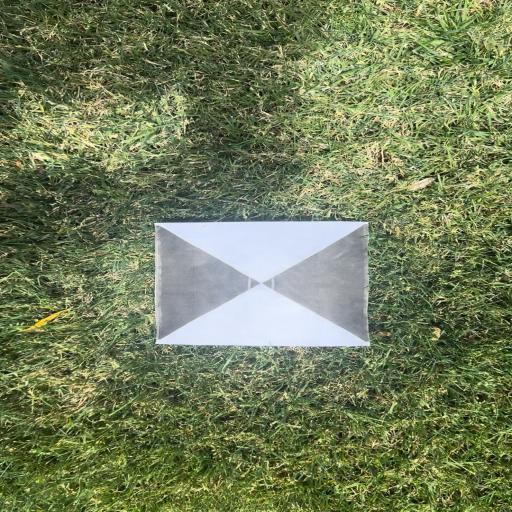target: (156, 223, 368, 346)
